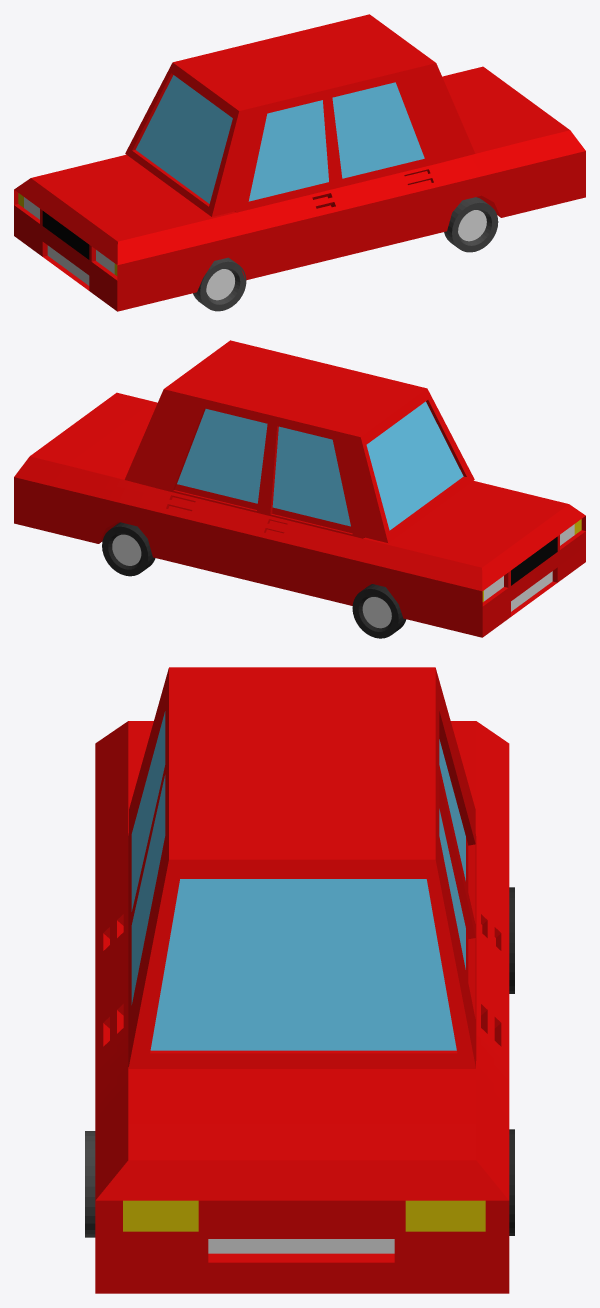
Rendered from carrinho low poly.fbx.
The picture shows the model from 3 angles, top to bottom: view 1: azimuth 30°, elevation 25°; view 2: azimuth 150°, elevation 25°; view 3: azimuth 270°, elevation 25°; orthographic projection. The views are drawn at different scales.
Visible parts, largest first — view 1: Cube, Cylinder.002, Cylinder.004; view 2: Cube, Cylinder.000, Cylinder.001; view 3: Cube, Cylinder.002.
Boxes of the visible parts, bbox=[...] form: Cube: bbox=[14, 14, 585, 311]; Cylinder.002: bbox=[444, 197, 498, 252]; Cylinder.004: bbox=[193, 257, 246, 311]; Cube: bbox=[14, 340, 585, 637]; Cylinder.000: bbox=[102, 522, 155, 576]; Cylinder.001: bbox=[352, 584, 406, 638]; Cube: bbox=[95, 667, 509, 1293]; Cylinder.002: bbox=[85, 1131, 95, 1237].
Size of the model in its own units: 523 by 190 by 208.
